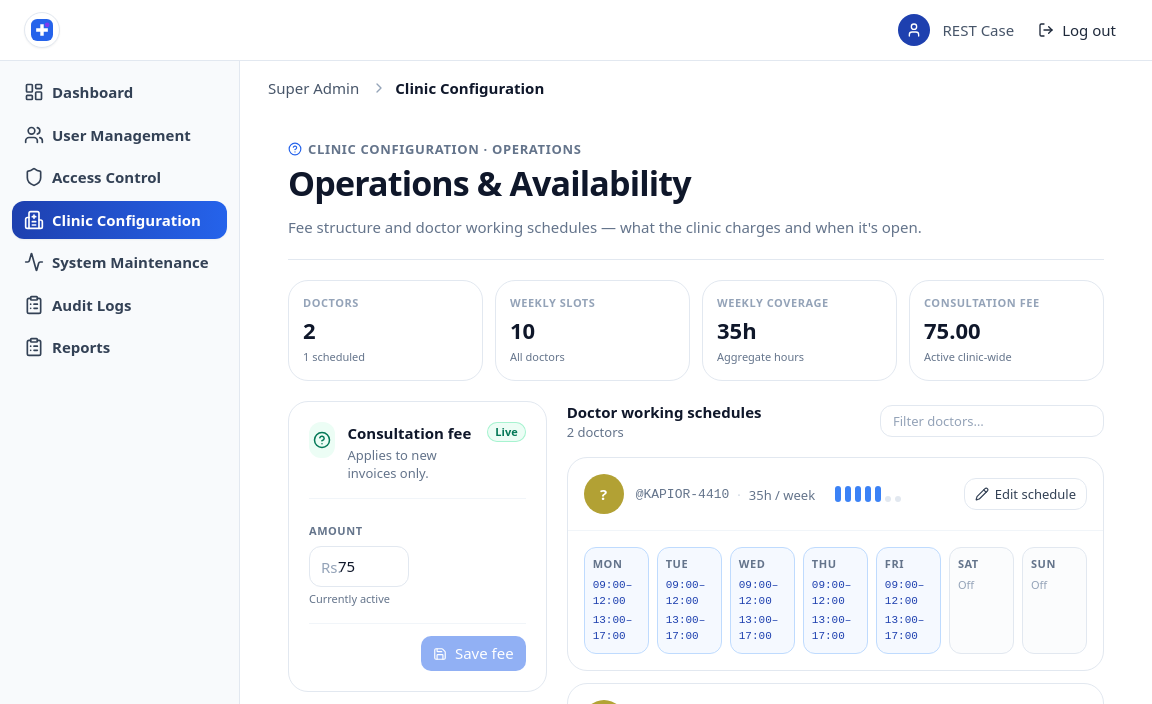
Test: super-admin clinic configuration — REST cases › persists a new consultation fee through PUT /system/settings/consultation-fee
Expected: the text "@KAPIOR-4410" is shown, [636, 486, 729, 504]
Replace the text in the number field labelled "Amount" with "120" at [359, 567], box [309, 546, 409, 587]
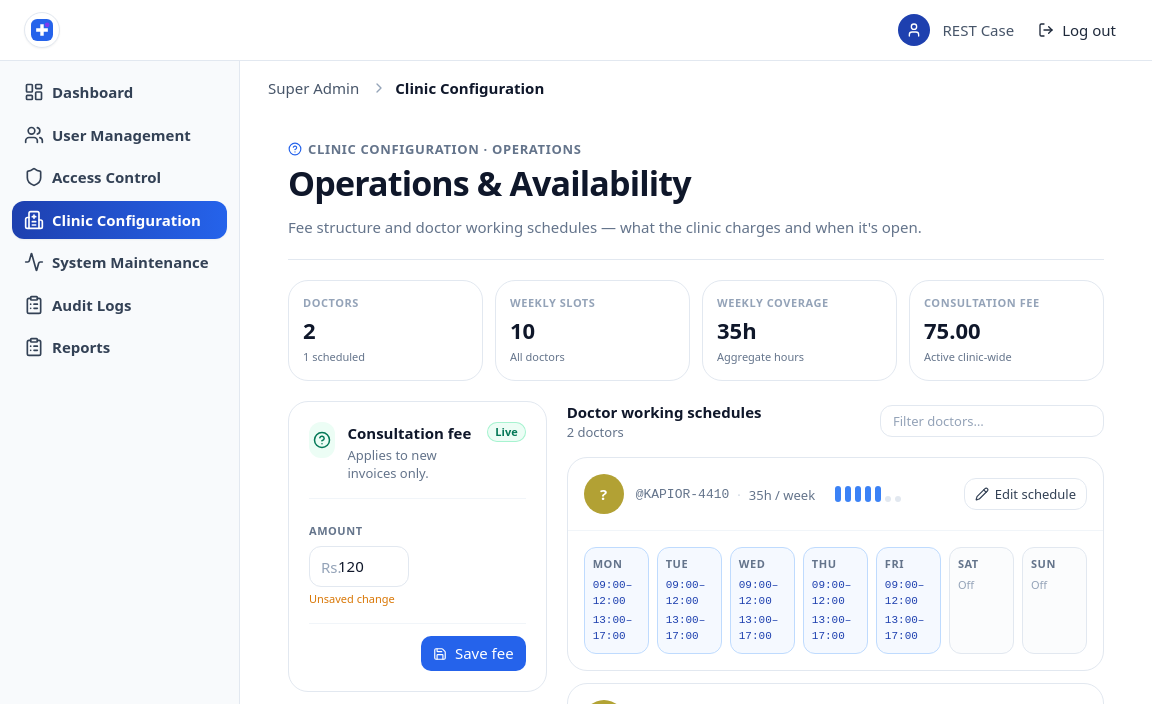
Now the text "Unsaved change" is shown, box [309, 591, 395, 606]
Click the button "Save fee" at [473, 654], box [421, 636, 526, 671]
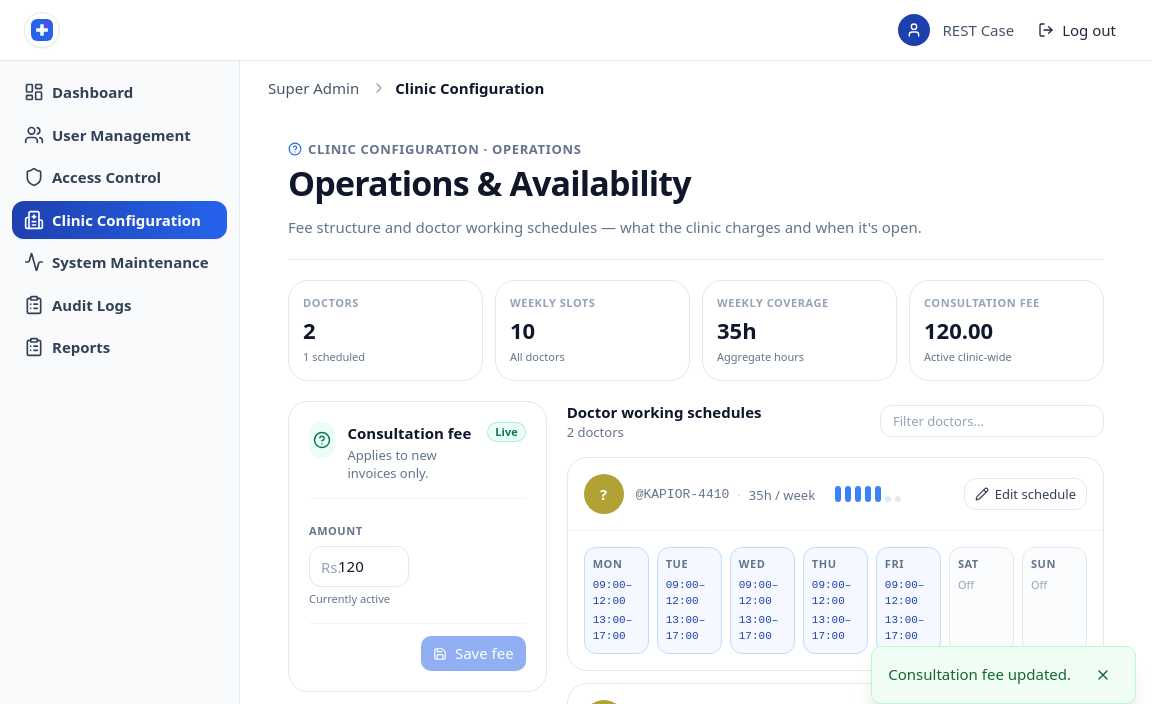
Now the text "Consultation fee updated." is shown, box [888, 663, 1071, 686]
Now the text "120.00" is shown, box [924, 315, 993, 345]
Now the text "Currently active" is shown, box [309, 591, 390, 606]
